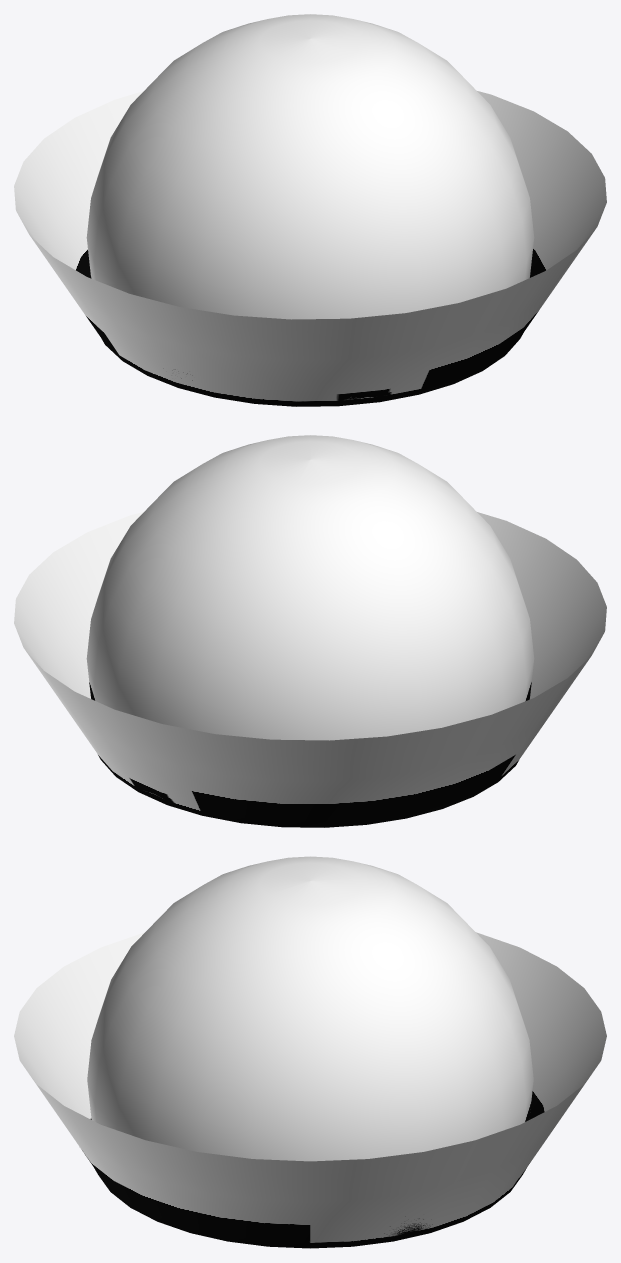
The model's file is VFX_Explosion.fbx.
3 views of the same model, one above another, from view 1: azimuth 30°, elevation 25°; view 2: azimuth 150°, elevation 25°; view 3: azimuth 270°, elevation 25° (orthographic).
Visible parts, largest first — view 1: vfx_Explosion; view 2: vfx_Explosion; view 3: vfx_Explosion.
Boxes of the visible parts, x1=… form: vfx_Explosion: x1=14, y1=14, x2=606, y2=406; vfx_Explosion: x1=14, y1=435, x2=606, y2=827; vfx_Explosion: x1=14, y1=856, x2=606, y2=1248.
Bounding box in the file's own units: 930 × 477 × 930.
